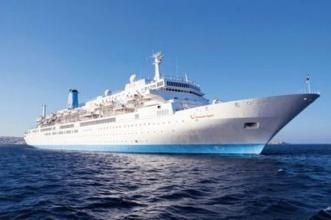youlun: (9, 57, 314, 154)
